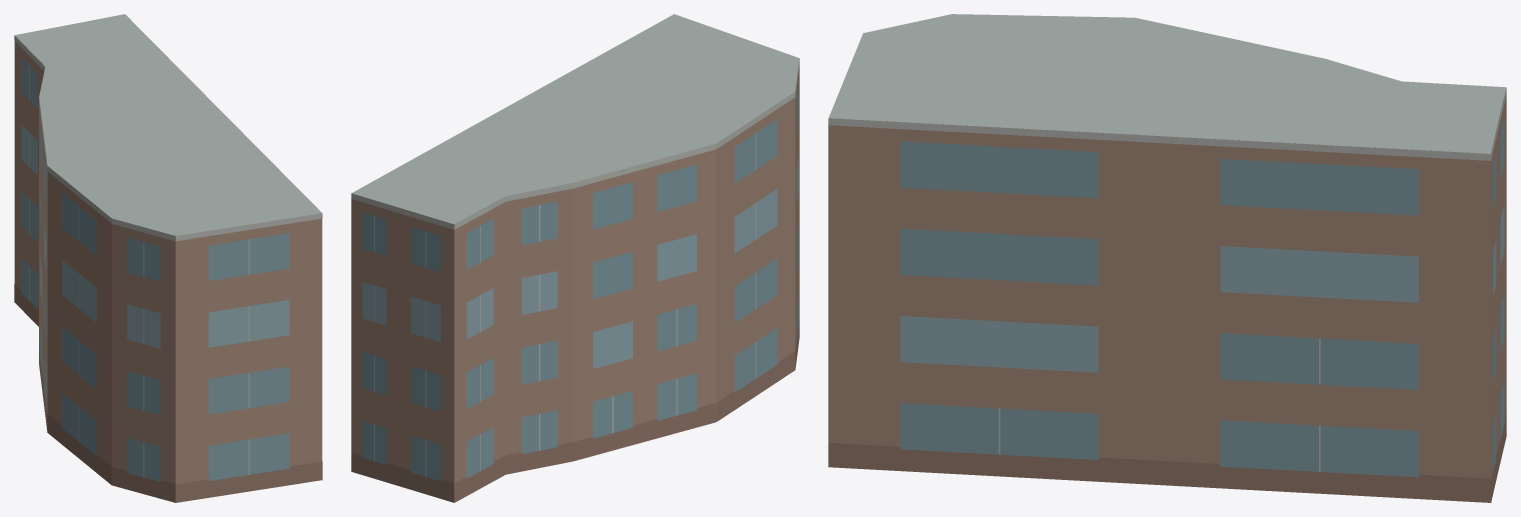
File: survey-upis-32713122.glb
3 views of the same model, side by side, from view 1: azimuth 30°, elevation 25°; view 2: azimuth 150°, elevation 25°; view 3: azimuth 270°, elevation 25° (orthographic). The views are drawn at different scales.
Parts seen in each view (by area): view 1: survey-upis-32713122.tmp; view 2: survey-upis-32713122.tmp; view 3: survey-upis-32713122.tmp.
Part boxes in pixels (x1=…): survey-upis-32713122.tmp: x1=14, y1=14, x2=322, y2=502; survey-upis-32713122.tmp: x1=351, y1=14, x2=799, y2=502; survey-upis-32713122.tmp: x1=828, y1=14, x2=1506, y2=502.
Size of the model in its own units: 10.51 by 12.2 by 21.5.
